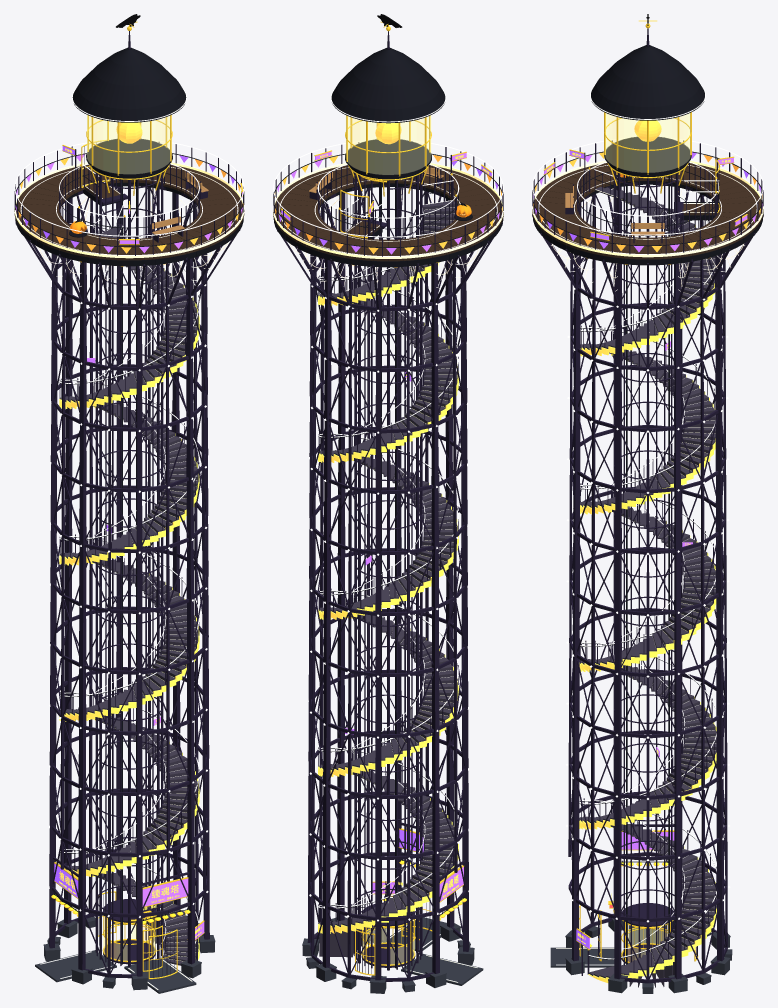
File: lookout_tower.glb
3 renders of one model, left to right at view 1: azimuth 30°, elevation 25°; view 2: azimuth 150°, elevation 25°; view 3: azimuth 270°, elevation 25°, orthographic.
Visible parts, largest first — view 1: TW_Iron, TW_Steel, TW_IronDark, TW_Wood, TW_Stone, TW_Glass, TW_Ribbon, TW_Rail, TW_Sign, TW_FloorGlow, TW_Brass, TW_StepGlow (+5 smaller); view 2: TW_Iron, TW_Steel, TW_IronDark, TW_Wood, TW_Glass, TW_Stone, TW_Ribbon, TW_Rail, TW_FloorGlow, TW_Brass, TW_Sign, TW_StepGlow (+5 smaller); view 3: TW_Iron, TW_Steel, TW_IronDark, TW_Wood, TW_Glass, TW_Ribbon, TW_Rail, TW_Stone, TW_FloorGlow, TW_Brass, TW_Sign, TW_StepGlow (+5 smaller).
Part boxes in pixels (x1=…): TW_Iron: x1=14, y1=31, x2=244, y2=978; TW_Steel: x1=60, y1=224, x2=198, y2=965; TW_IronDark: x1=15, y1=47, x2=244, y2=964; TW_Wood: x1=14, y1=164, x2=244, y2=260; TW_Stone: x1=35, y1=915, x2=215, y2=993; TW_Glass: x1=87, y1=115, x2=171, y2=173; TW_Ribbon: x1=59, y1=269, x2=199, y2=959; TW_Rail: x1=14, y1=88, x2=244, y2=943; TW_Sign: x1=15, y1=146, x2=242, y2=939; TW_FloorGlow: x1=14, y1=162, x2=244, y2=258; TW_Brass: x1=54, y1=21, x2=243, y2=940; TW_StepGlow: x1=40, y1=225, x2=196, y2=989; TW_Iron: x1=273, y1=31, x2=503, y2=981; TW_Steel: x1=319, y1=200, x2=457, y2=957; TW_IronDark: x1=273, y1=48, x2=503, y2=968; TW_Wood: x1=273, y1=165, x2=503, y2=261; TW_Glass: x1=345, y1=115, x2=431, y2=174; TW_Stone: x1=302, y1=917, x2=483, y2=993; TW_Ribbon: x1=318, y1=262, x2=458, y2=933; TW_Rail: x1=273, y1=88, x2=503, y2=913; TW_FloorGlow: x1=273, y1=163, x2=503, y2=258; TW_Brass: x1=280, y1=21, x2=492, y2=902; TW_Sign: x1=277, y1=151, x2=499, y2=901; TW_StepGlow: x1=357, y1=200, x2=477, y2=982; TW_Iron: x1=532, y1=28, x2=763, y2=983; TW_Steel: x1=579, y1=186, x2=716, y2=987; TW_IronDark: x1=532, y1=45, x2=763, y2=964; TW_Wood: x1=532, y1=163, x2=763, y2=259; TW_Glass: x1=605, y1=113, x2=690, y2=172; TW_Ribbon: x1=579, y1=220, x2=716, y2=982; TW_Rail: x1=532, y1=85, x2=763, y2=959; TW_Stone: x1=550, y1=913, x2=732, y2=993; TW_FloorGlow: x1=532, y1=160, x2=763, y2=257; TW_Brass: x1=543, y1=20, x2=747, y2=950; TW_Sign: x1=533, y1=150, x2=762, y2=948; TW_StepGlow: x1=556, y1=189, x2=715, y2=965.
Bounding box in the file's own units: 11.2 × 50.4 × 11.2.
